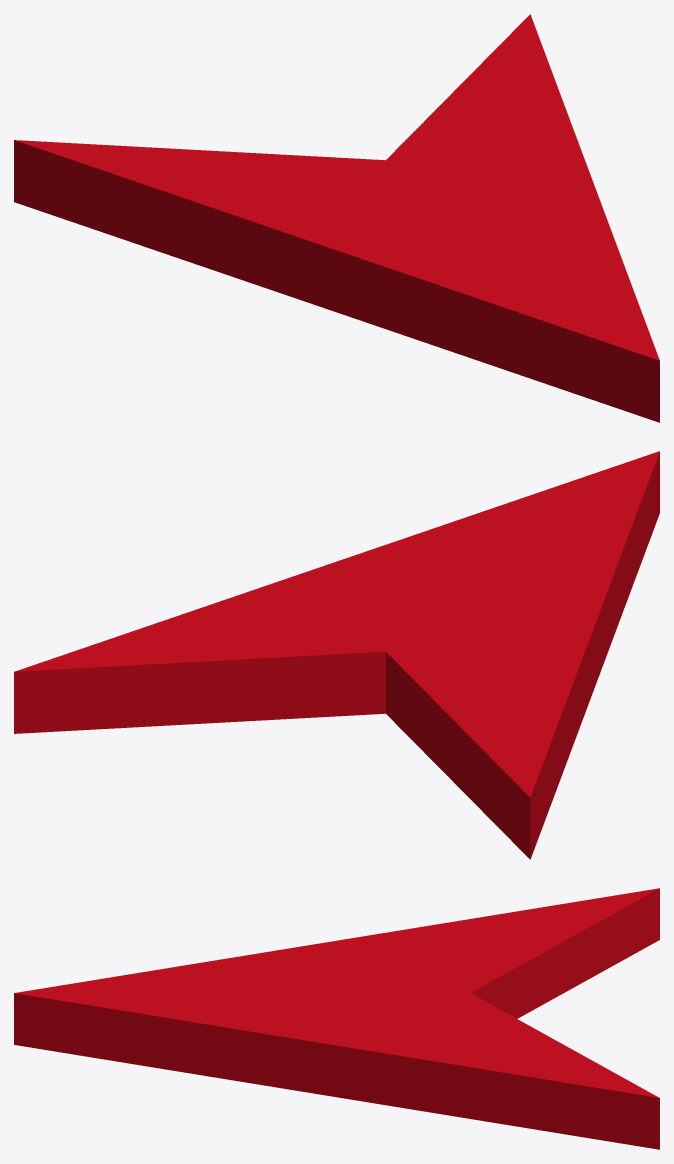
File: Compass.fbx
The picture shows the model from 3 angles, top to bottom: view 1: azimuth 30°, elevation 25°; view 2: azimuth 150°, elevation 25°; view 3: azimuth 270°, elevation 25°; orthographic projection. The views are drawn at different scales.
Visible parts, largest first — view 1: Heading; view 2: Heading; view 3: Heading.
Boxes of the visible parts, x1,y1,x2,y2 form: Heading: (14, 14, 659, 422); Heading: (14, 451, 659, 859); Heading: (14, 888, 659, 1149).
Bounding box in the file's own units: 2.83 × 3.68 × 0.325.
